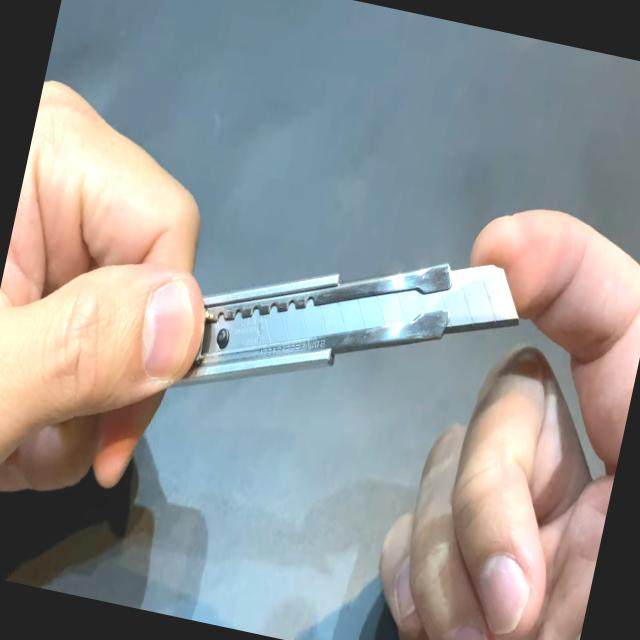cutter: (0, 36, 565, 618)
